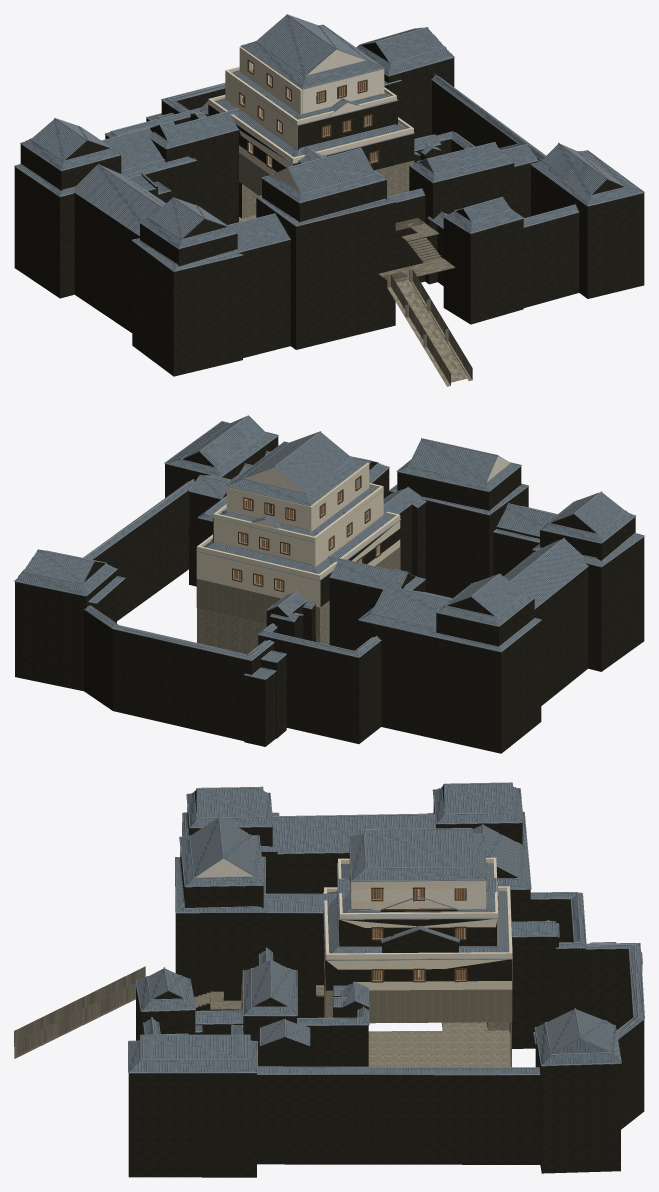
File: matsuyama_keep.glb
3 views of the same model, one above another, from view 1: azimuth 30°, elevation 25°; view 2: azimuth 150°, elevation 25°; view 3: azimuth 270°, elevation 25° (orthographic). The views are drawn at different scales.
Parts seen in each view (by area): view 1: SurveyedWallSurface_black, SurveyedRoofSurface_roof, RoofTileDetail_C_tile, RoofEdgeDetail_C_tile, InnerWall_plaster, SurveyedWallSurface_plaster, 一ノ門外取付坂_C, SurveyedWallSurface_stone, InnerWall_stone, 一ノ門内枡形_C, NurigomeLattice_plaster, ApertureJamb_wood (+1 smaller); view 2: SurveyedWallSurface_black, SurveyedRoofSurface_roof, RoofTileDetail_C_tile, InnerWall_plaster, RoofEdgeDetail_C_tile, InnerWall_stone, SurveyedWallSurface_stone, SurveyedWallSurface_plaster, ApertureJamb_wood, NurigomeLattice_plaster, ApertureReveal_wood; view 3: SurveyedWallSurface_black, SurveyedRoofSurface_roof, RoofTileDetail_C_tile, RoofEdgeDetail_C_tile, InnerWall_plaster, SurveyedGroundSurface_stone, InnerWall_stone, SurveyedWallSurface_plaster, 一ノ門外取付坂・東側低石垣_C-3, 一ノ門外取付坂・東側低石垣_C-2, 一ノ門外取付坂・西側低石垣_C-3, SurveyedWallSurface_stone.
Part boxes in pixels (box(x1,y1,x2,y2)): SurveyedWallSurface_black: box(14, 43, 644, 376); SurveyedRoofSurface_roof: box(15, 15, 642, 270); RoofTileDetail_C_tile: box(17, 14, 642, 269); RoofEdgeDetail_C_tile: box(14, 14, 644, 271); InnerWall_plaster: box(208, 47, 413, 174); SurveyedWallSurface_plaster: box(273, 49, 384, 192); 一ノ門外取付坂_C: box(395, 278, 468, 382); SurveyedWallSurface_stone: box(242, 160, 414, 218); InnerWall_stone: box(239, 153, 269, 195); 一ノ門内枡形_C: box(378, 258, 455, 281); NurigomeLattice_plaster: box(240, 62, 376, 166); ApertureJamb_wood: box(239, 60, 379, 168); SurveyedWallSurface_black: box(15, 436, 644, 753); SurveyedRoofSurface_roof: box(15, 416, 643, 678); RoofTileDetail_C_tile: box(16, 416, 641, 678); InnerWall_plaster: box(196, 463, 400, 607); RoofEdgeDetail_C_tile: box(14, 415, 644, 679); InnerWall_stone: box(196, 547, 400, 636); SurveyedWallSurface_stone: box(197, 547, 400, 654); SurveyedWallSurface_plaster: box(226, 456, 509, 528); ApertureJamb_wood: box(232, 477, 381, 591); NurigomeLattice_plaster: box(234, 478, 379, 590); ApertureReveal_wood: box(232, 475, 381, 592); SurveyedWallSurface_black: box(128, 785, 644, 1177); SurveyedRoofSurface_roof: box(129, 784, 642, 1073); RoofTileDetail_C_tile: box(129, 783, 643, 1073); RoofEdgeDetail_C_tile: box(128, 782, 644, 1075); InnerWall_plaster: box(324, 857, 512, 990); SurveyedGroundSurface_stone: box(368, 1022, 510, 1067); InnerWall_stone: box(368, 989, 512, 1023); SurveyedWallSurface_plaster: box(196, 833, 485, 909); 一ノ門外取付坂・東側低石垣_C-3: box(14, 1017, 66, 1058); 一ノ門外取付坂・東側低石垣_C-2: box(67, 998, 106, 1032); 一ノ門外取付坂・西側低石垣_C-3: box(14, 1005, 66, 1046); SurveyedWallSurface_stone: box(324, 952, 511, 1067).
Bounding box in the file's own units: 65.68 × 29.37 × 69.78.
10 materials, 10 textured.
